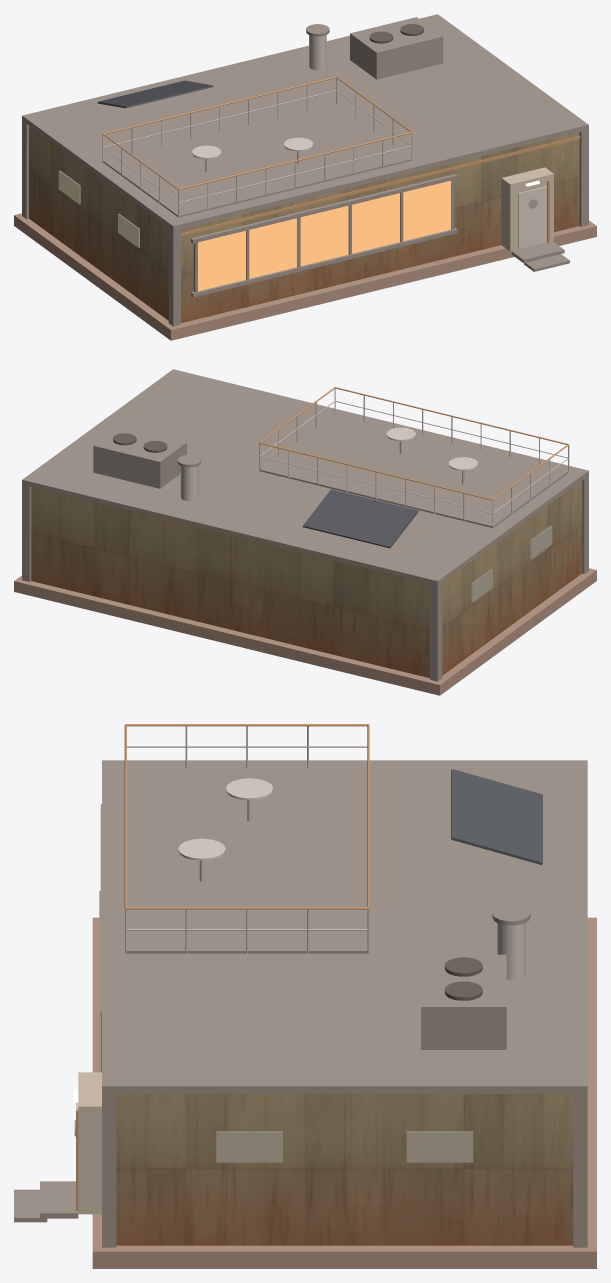
File: Z02_canteen.glb
3 renders of one model, top to bottom at view 1: azimuth 30°, elevation 25°; view 2: azimuth 150°, elevation 25°; view 3: azimuth 270°, elevation 25°, orthographic. The views are drawn at different scales.
Parts seen in each view (by area): view 1: roof_edge, hall, panoramic_window, foundation, terrace_rail_mid, door_window; view 2: roof_edge, hall, foundation, terrace_rail_mid, door_window; view 3: roof_edge, hall, foundation, door_window, terrace_rail_mid.
Boxes of the visible parts, box(x1,y1,x2,y2) form: roof_edge: box(22, 14, 588, 326); hall: box(29, 24, 580, 323); panoramic_window: box(198, 180, 451, 291); foundation: box(14, 213, 596, 340); terrace_rail_mid: box(102, 35, 412, 217); door_window: box(58, 170, 537, 247); roof_edge: box(22, 369, 588, 681); hall: box(31, 387, 581, 678); foundation: box(14, 568, 596, 695); terrace_rail_mid: box(180, 388, 569, 528); door_window: box(471, 525, 552, 602); roof_edge: box(14, 760, 587, 1247); hall: box(76, 724, 573, 1245); foundation: box(92, 917, 596, 1268); door_window: box(74, 1120, 473, 1162); terrace_rail_mid: box(125, 726, 525, 979).
Bounding box in the file's own units: 16.6 × 5.54 × 12.25.
Materials: 8 (1 with a texture image).
